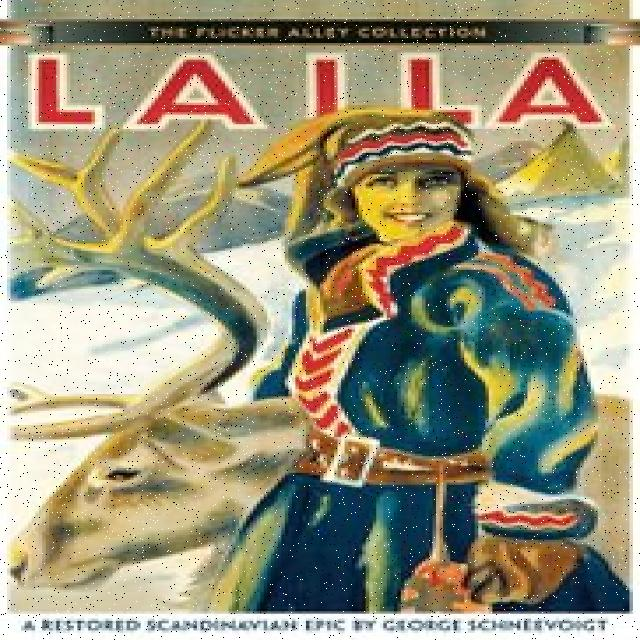movie-judul: (25, 24, 636, 132)
picture: (12, 4, 626, 614)
